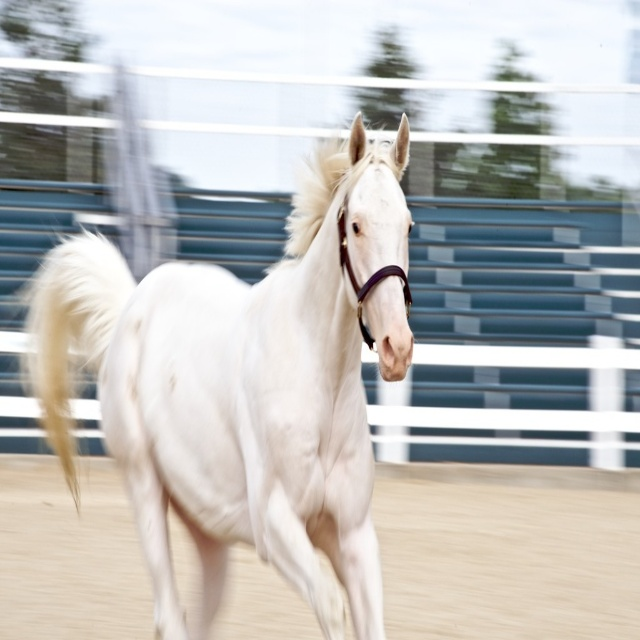Horse: (14, 107, 414, 639)
